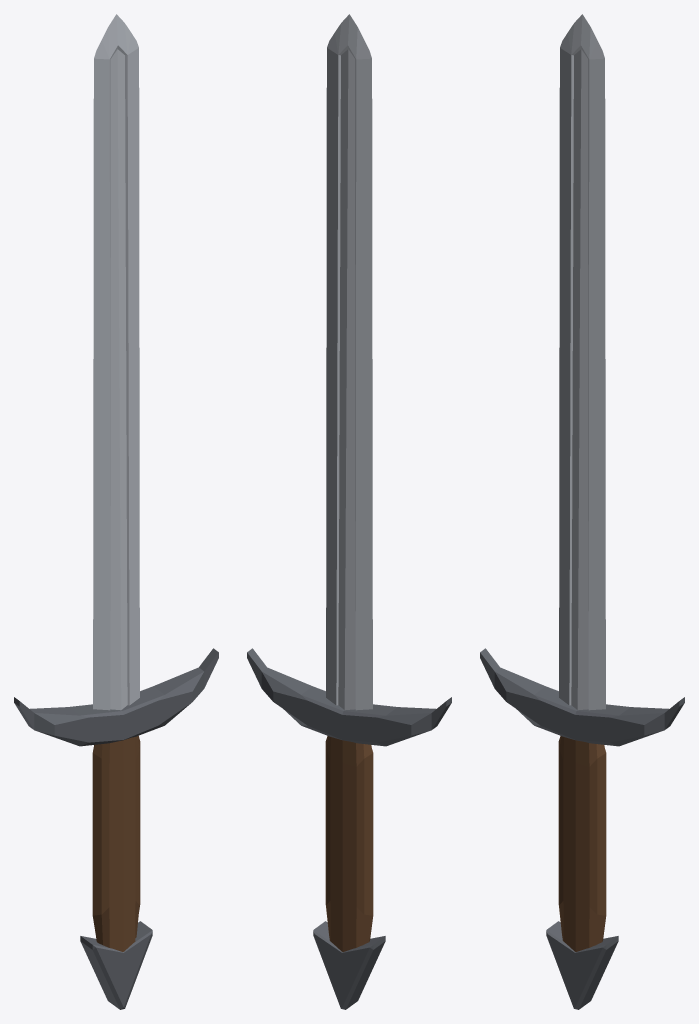
File: longsword.glb
The picture shows the model from 3 angles, left to right: view 1: azimuth 30°, elevation 25°; view 2: azimuth 150°, elevation 25°; view 3: azimuth 330°, elevation 25°; orthographic projection.
Visible parts, largest first — view 1: LongSword; view 2: LongSword; view 3: LongSword.
Boxes of the visible parts, x1=… form: LongSword: x1=14, y1=14, x2=218, y2=1009; LongSword: x1=247, y1=14, x2=451, y2=1009; LongSword: x1=480, y1=14, x2=684, y2=1009.
Bounding box in the file's own units: 0.2073 × 0.985 × 0.0262.
